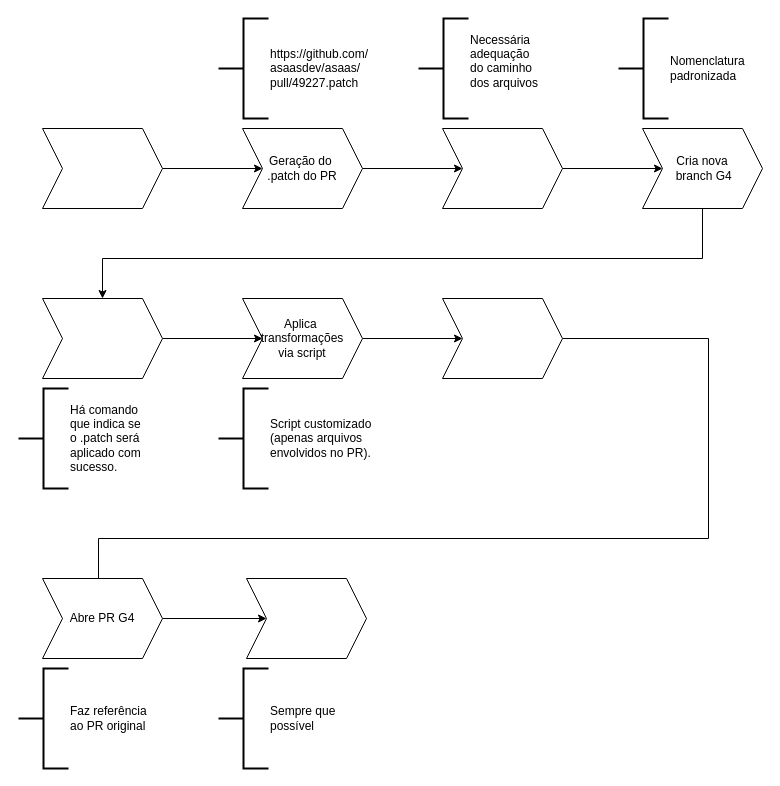
Some shapes in this 780 by 786 pixel diagram are drawn without their labels. Each missing label, with the centre of its shape:
"Aplica .patch" goes at point (102, 338).
"Commit das alterações" goes at point (502, 338).
"Merge automático G4" goes at point (306, 618).
"PR mergeado para a release G2" goes at point (102, 168).
"Processamento do .patch" goes at point (502, 168).
